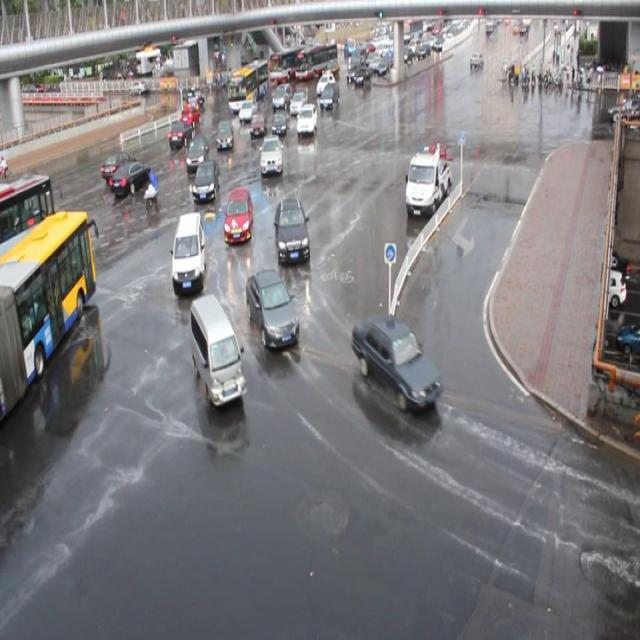bus: (404, 147, 452, 214)
car: (352, 313, 442, 410), (245, 268, 300, 346), (274, 198, 311, 263), (224, 188, 254, 242), (109, 160, 152, 193), (192, 159, 220, 200), (259, 133, 284, 175), (100, 150, 137, 177), (186, 134, 209, 169), (167, 120, 194, 147), (296, 104, 317, 136), (272, 83, 293, 109), (216, 119, 234, 149), (319, 82, 339, 109), (180, 106, 201, 130), (271, 110, 289, 135), (238, 98, 257, 121), (289, 91, 308, 114), (249, 113, 267, 136), (183, 92, 200, 114), (187, 86, 204, 106)
truck: (188, 292, 248, 407), (171, 211, 206, 292)
van: (1, 210, 97, 422), (1, 174, 57, 278), (228, 59, 270, 110)
